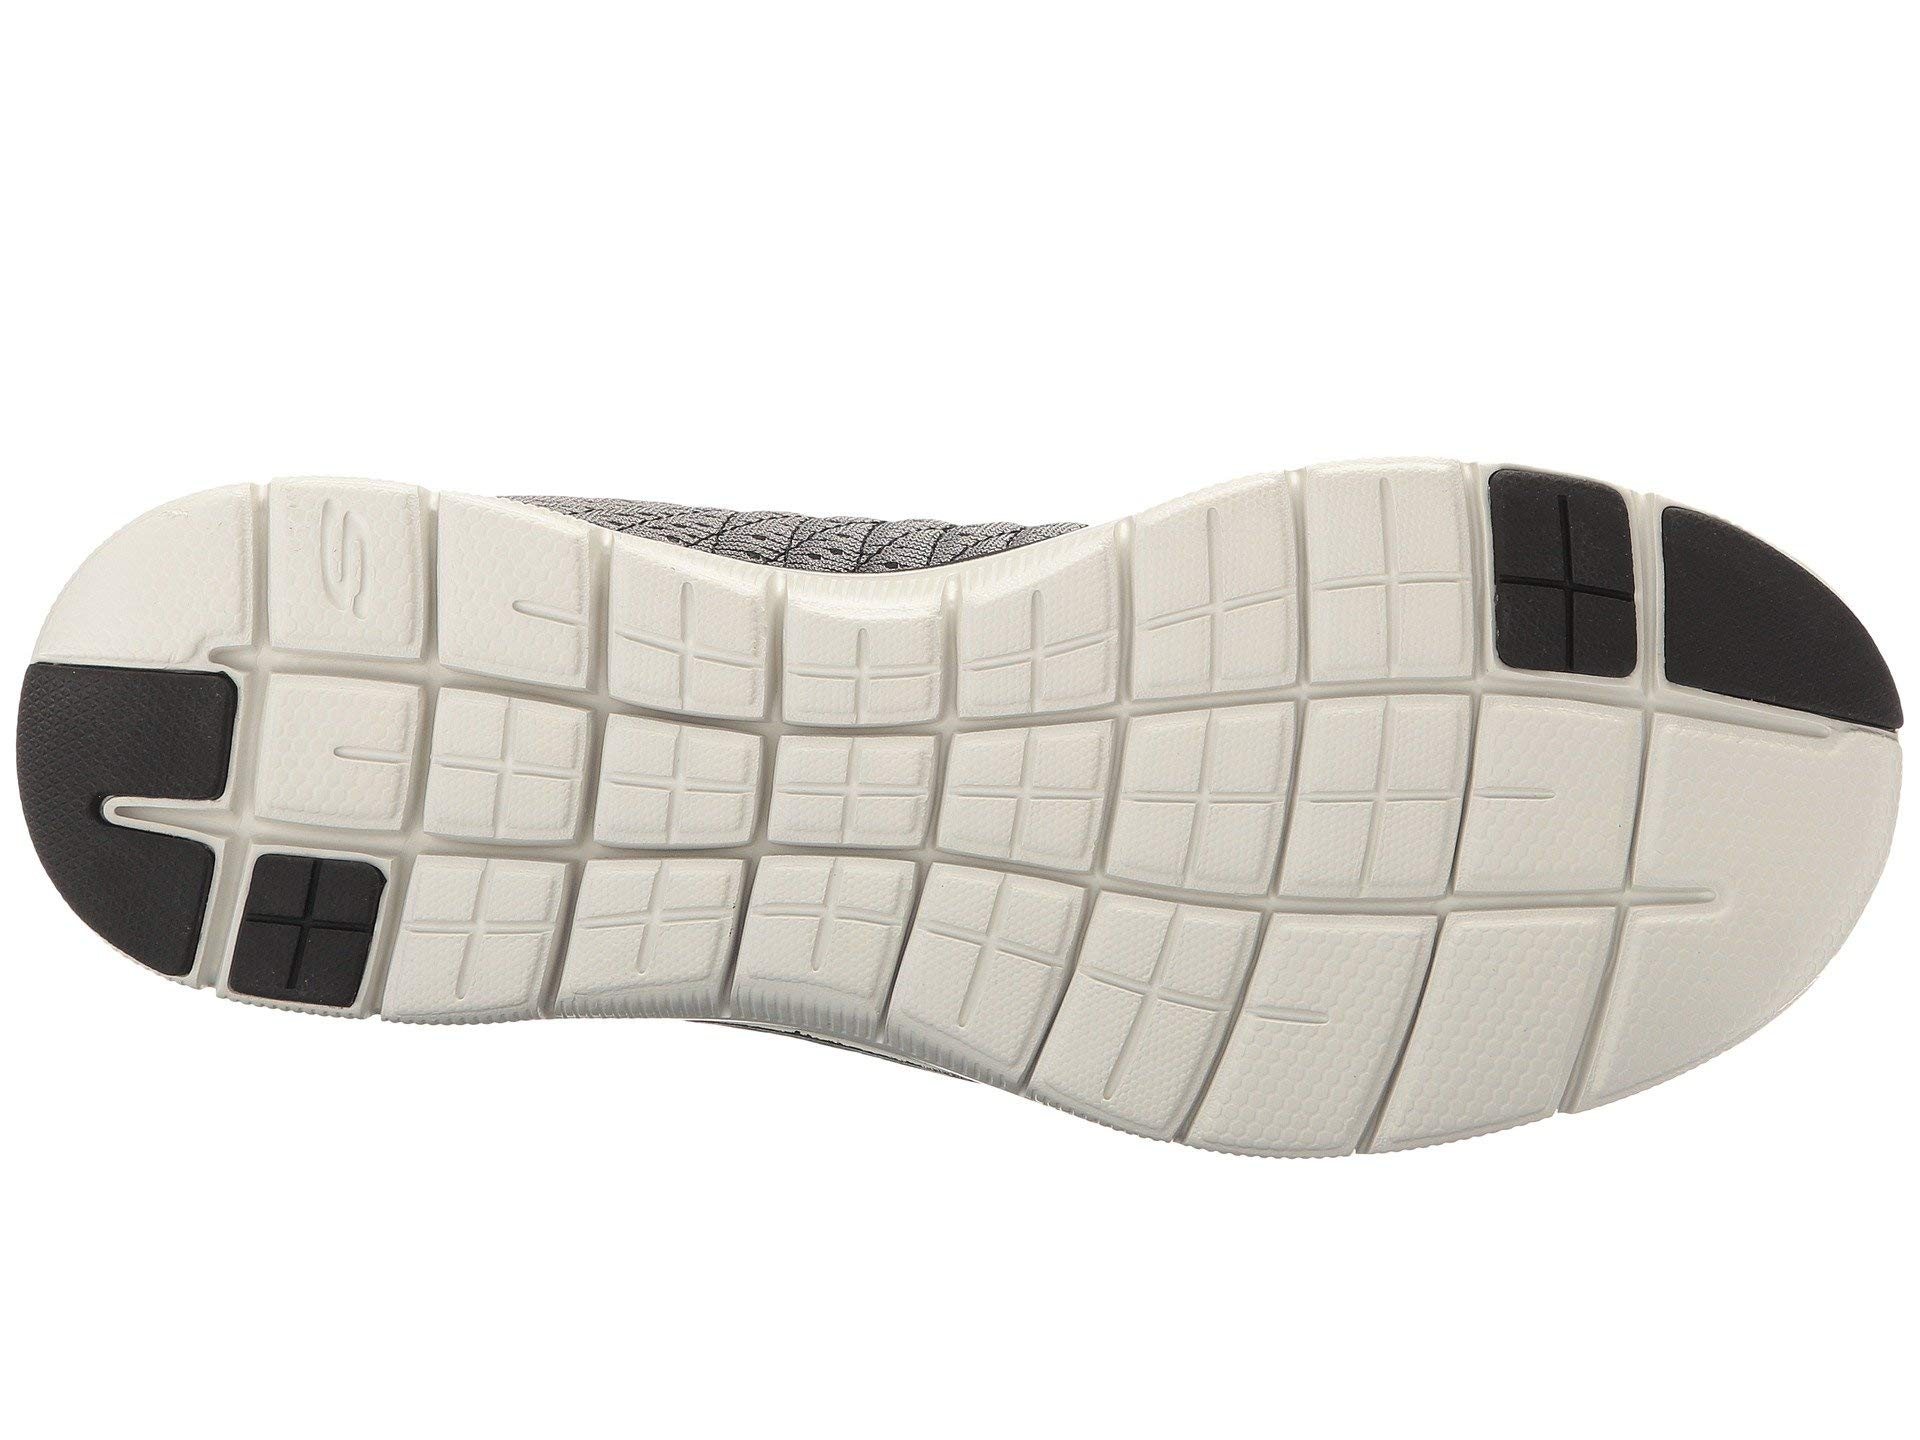polygon: (1444, 929, 1578, 1053)
quad: (429, 676, 797, 989), (1095, 681, 1409, 985), (246, 469, 458, 672)
text: (246, 469, 458, 672)
